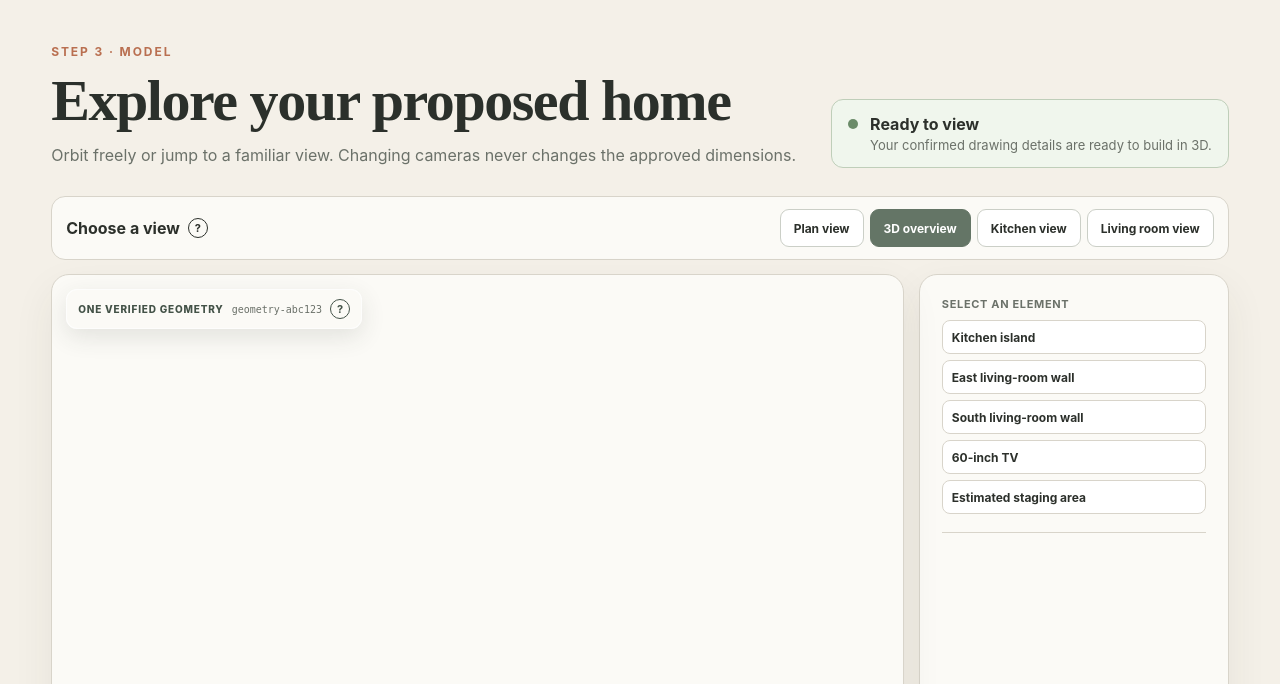
Test: ModelPage › offers a keyboard-accessible element list alongside canvas selection
This screenshot has width=1280, height=684.
Click the button "Kitchen island": point(994, 337) [942,320,1206,354]
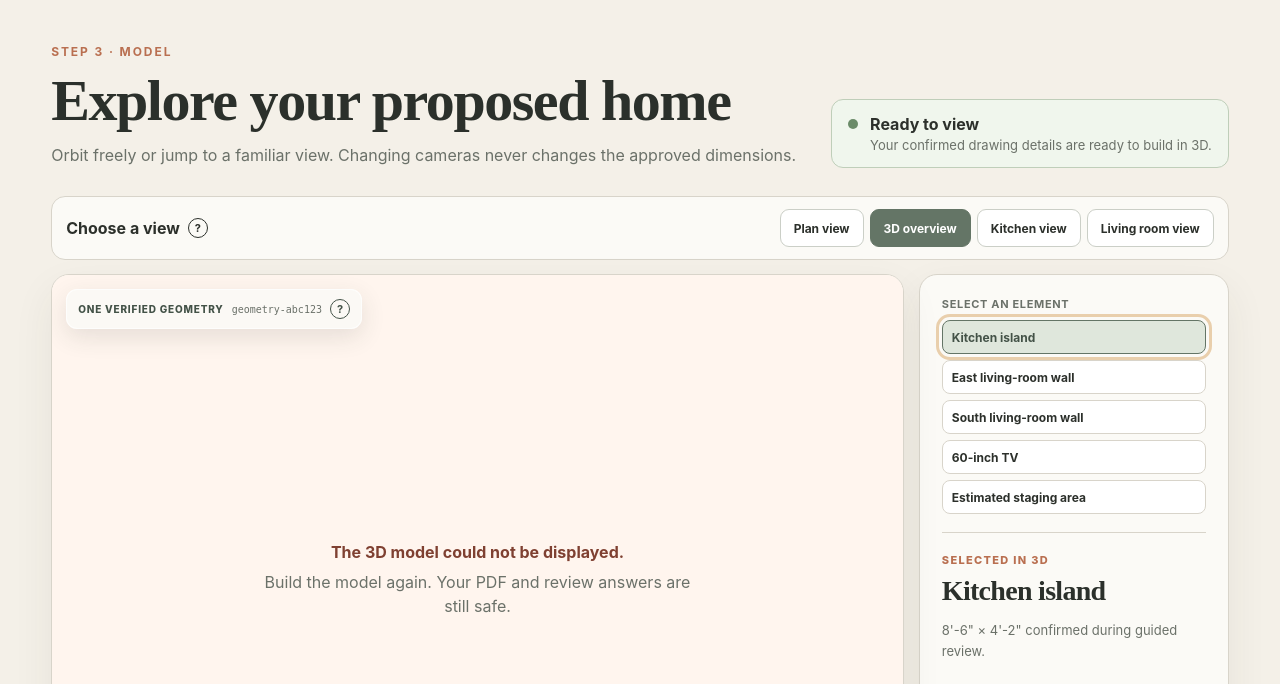
Expected: the heading "Kitchen island" is shown, [942,575,1106,606]
